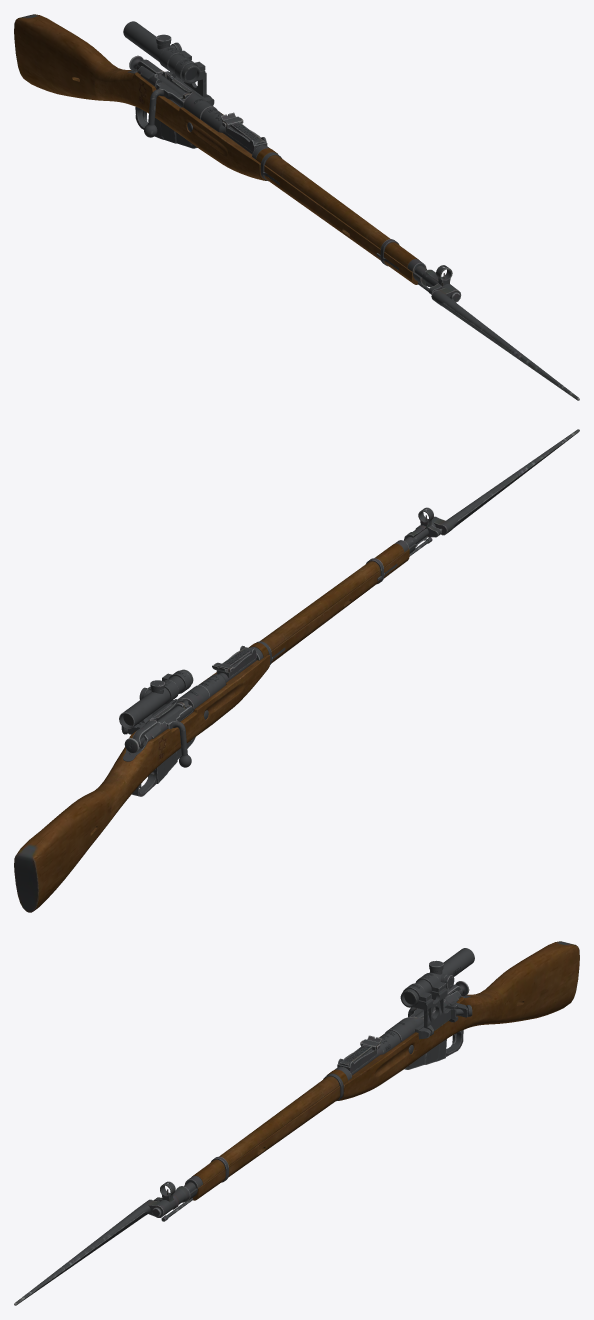
Rendered from gun-boltRifle.glb.
3 renders of one model, top to bottom at view 1: azimuth 30°, elevation 25°; view 2: azimuth 150°, elevation 25°; view 3: azimuth 330°, elevation 25°, orthographic. The views are drawn at different scales.
Parts seen in each view (by area): view 1: M91, scope, bayonet, bolt_02; view 2: M91, scope, bayonet, bolt_02; view 3: M91, scope, bayonet.
Boxes of the visible parts, x1,y1,x2,y2 form: M91: (14,14,460,302); scope: (123,21,214,105); bayonet: (425,269,579,400); bolt_02: (144,74,185,137); M91: (14,507,433,912); scope: (119,669,193,734); bayonet: (404,429,579,546); bolt_02: (157,705,192,767); M91: (152,941,579,1221); scope: (400,948,474,1039); bayonet: (14,1186,189,1305).
Size of the model in its own units: 0.0813 by 0.1907 by 1.38.
2 materials, 2 textured.
